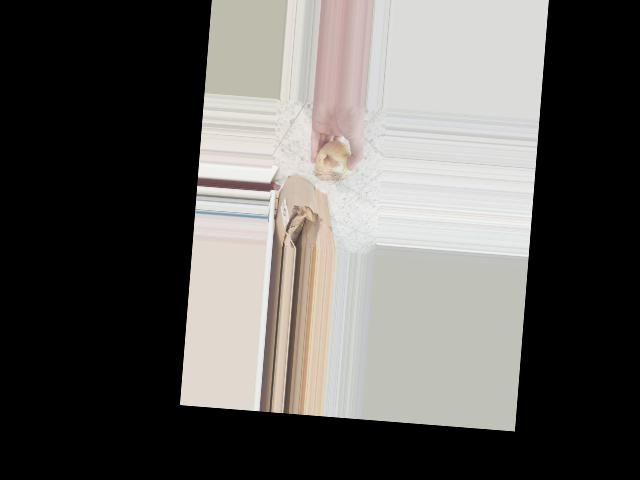onion: (313, 134, 362, 185)
